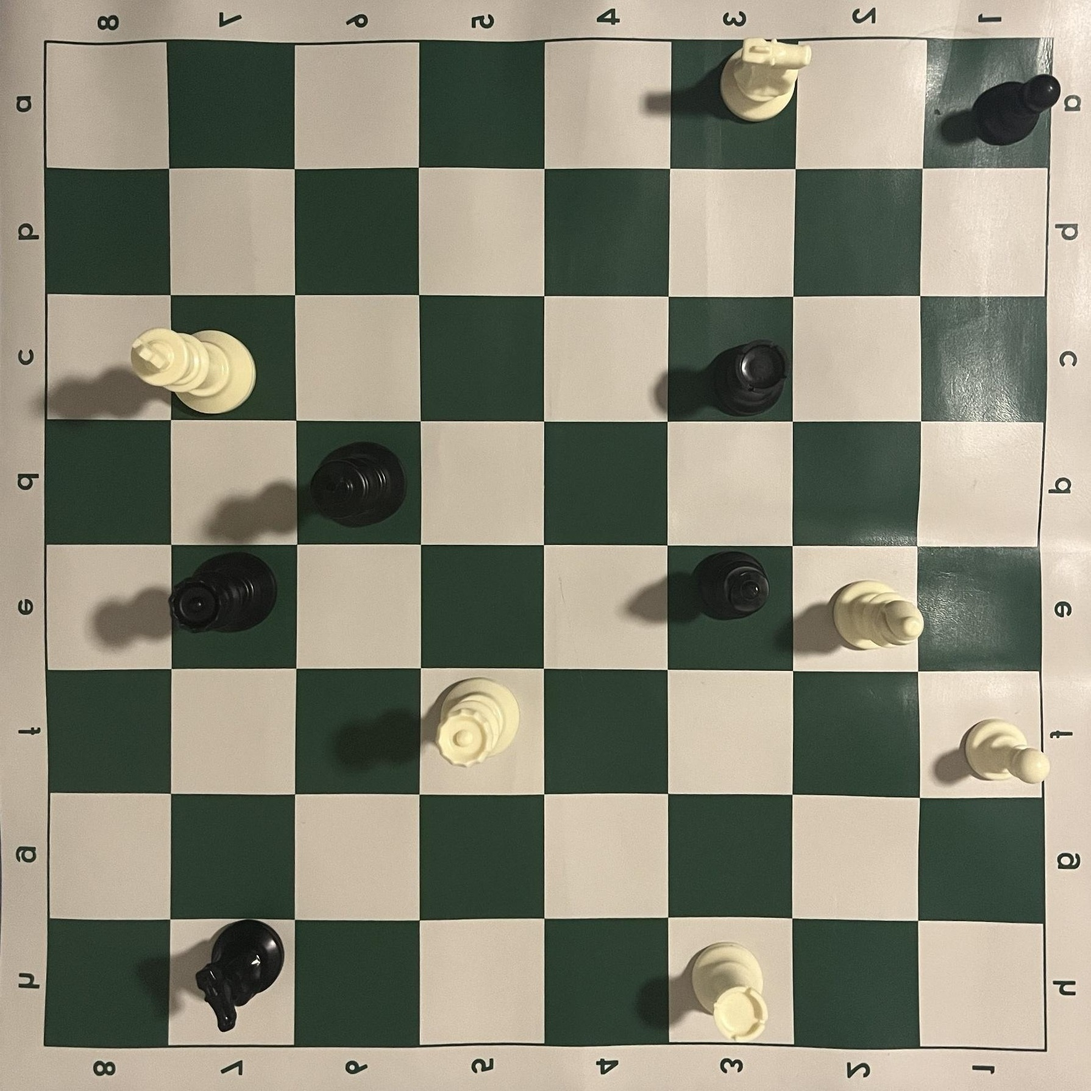black_bishop: (691, 551, 772, 621)
black_king: (309, 441, 407, 530)
black_knight: (195, 919, 286, 1034)
black_pawn: (972, 74, 1061, 146)
black_queen: (166, 550, 277, 637)
black_rook: (703, 338, 791, 417)
white_bishop: (831, 579, 925, 652)
white_king: (130, 327, 257, 414)
white_knight: (720, 37, 812, 123)
white_pawn: (962, 717, 1051, 784)
white_queen: (435, 677, 521, 769)
white_rook: (688, 940, 771, 1043)
